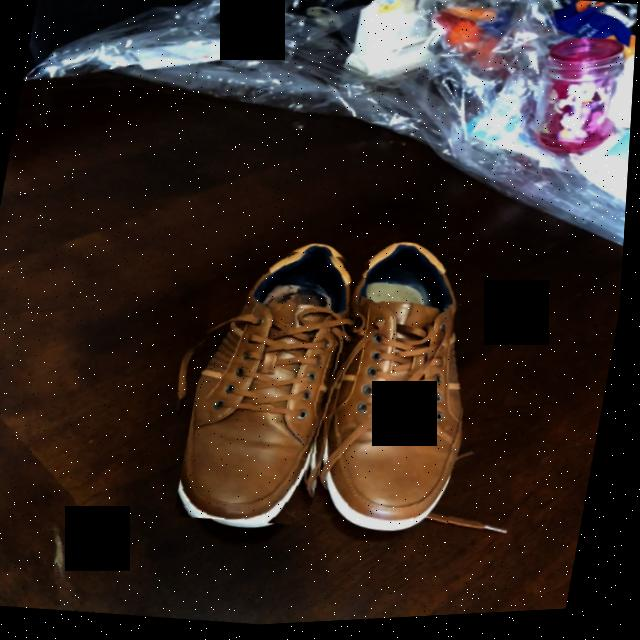shoe: (186, 256, 360, 525), (331, 248, 471, 527)
